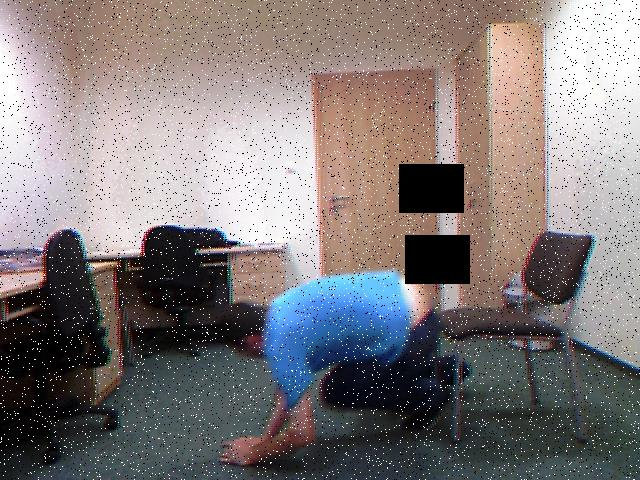near-fall: (219, 270, 455, 464), (460, 365, 471, 378)
